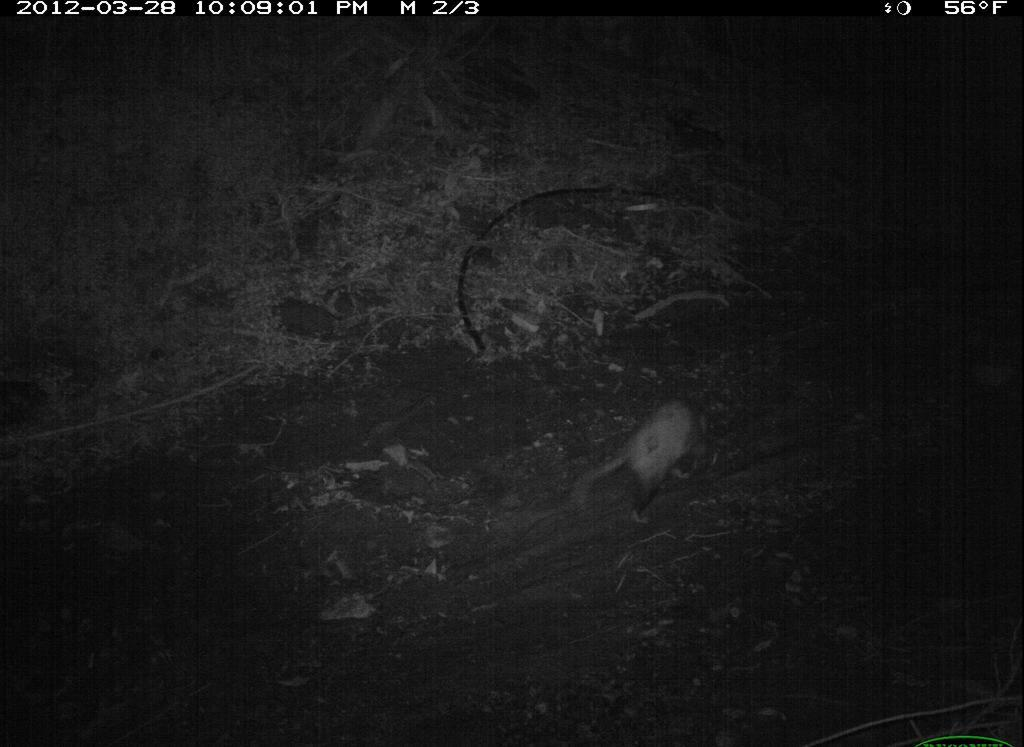opossum: (545, 372, 739, 534)
